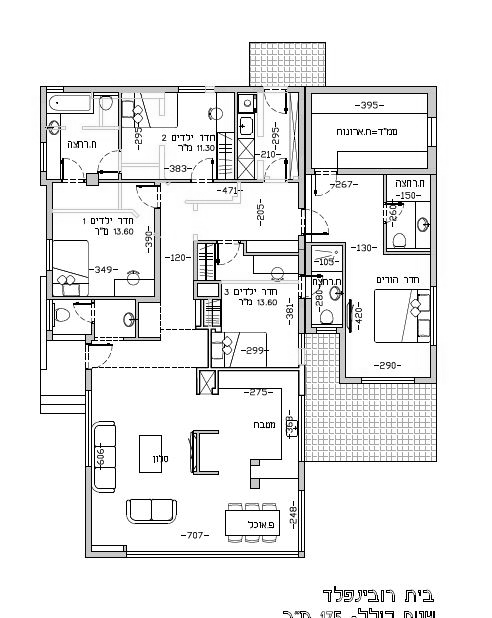door: (258, 78, 298, 121), (210, 234, 249, 273), (308, 164, 344, 204), (298, 204, 334, 239), (85, 339, 116, 375), (70, 300, 96, 324)
window: (423, 281, 444, 355), (42, 229, 58, 289), (356, 375, 421, 389), (175, 81, 222, 100), (38, 296, 59, 337), (423, 111, 441, 156), (36, 140, 50, 178)
